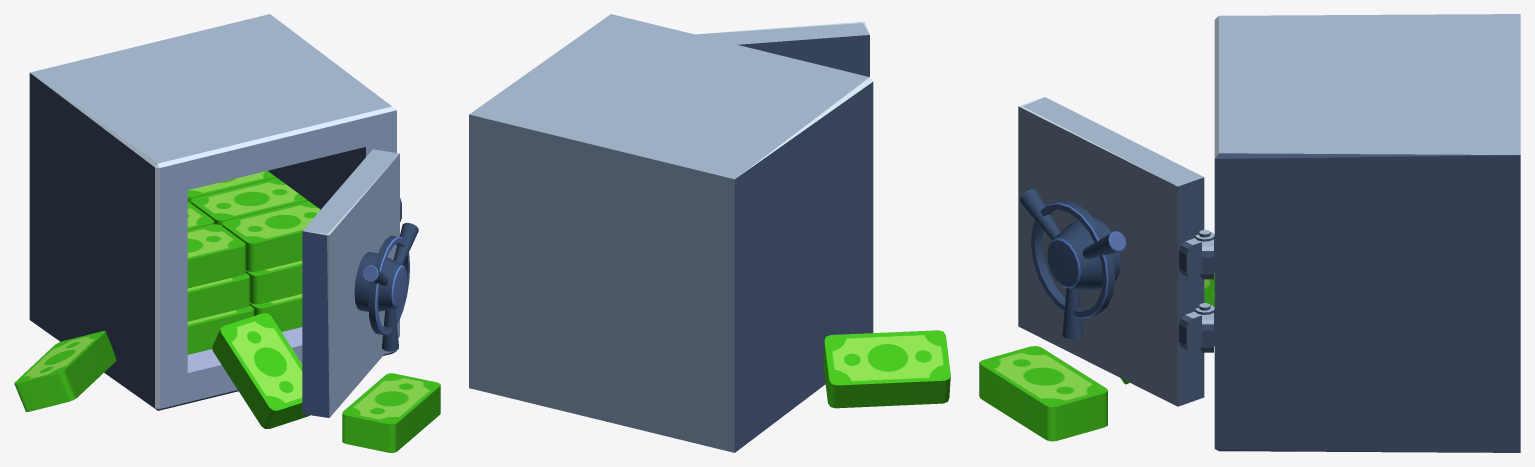
Rendered from Money_Safe.fbx.
3 renders of one model, left to right at view 1: azimuth 30°, elevation 25°; view 2: azimuth 150°, elevation 25°; view 3: azimuth 270°, elevation 25°, orthographic. The views are drawn at different scales.
Visible parts, largest first — view 1: Money_Safe, Moneysafe; view 2: Money_Safe, Moneysafe; view 3: Money_Safe, Moneysafe.
Boxes of the visible parts, x1,y1,x2,y2 form: Money_Safe: (29,14,418,417); Moneysafe: (14,171,440,452); Money_Safe: (469,14,873,452); Moneysafe: (823,330,950,408); Money_Safe: (1018,14,1520,452); Moneysafe: (979,273,1214,441).
Bounding box in the file's own units: 83.53 × 58.44 × 94.26.
